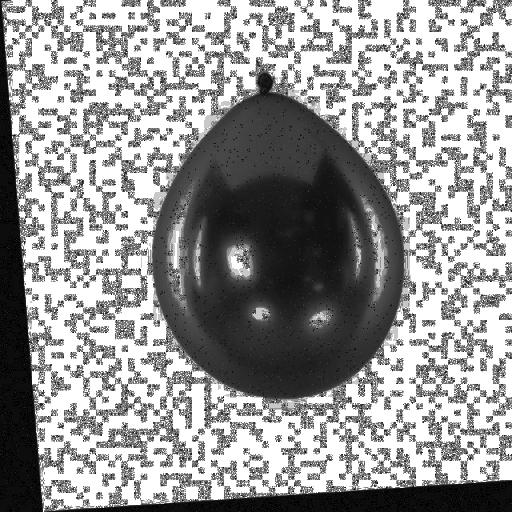balloon: (131, 72, 408, 414)
